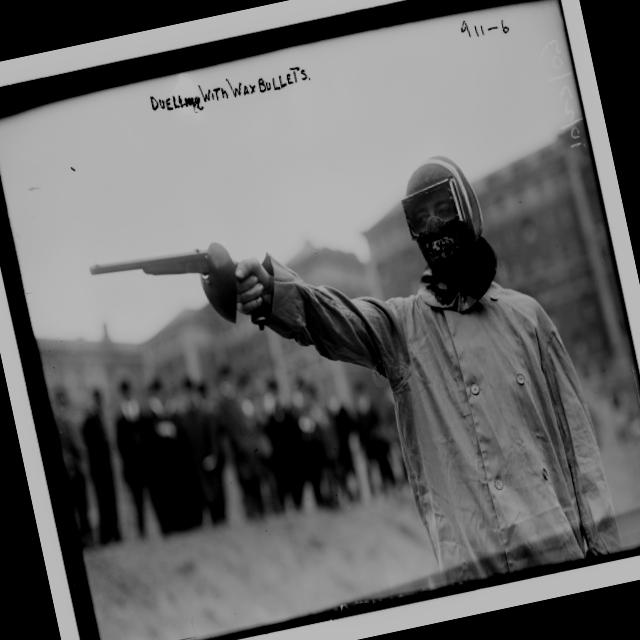handgun: (88, 234, 244, 346)
